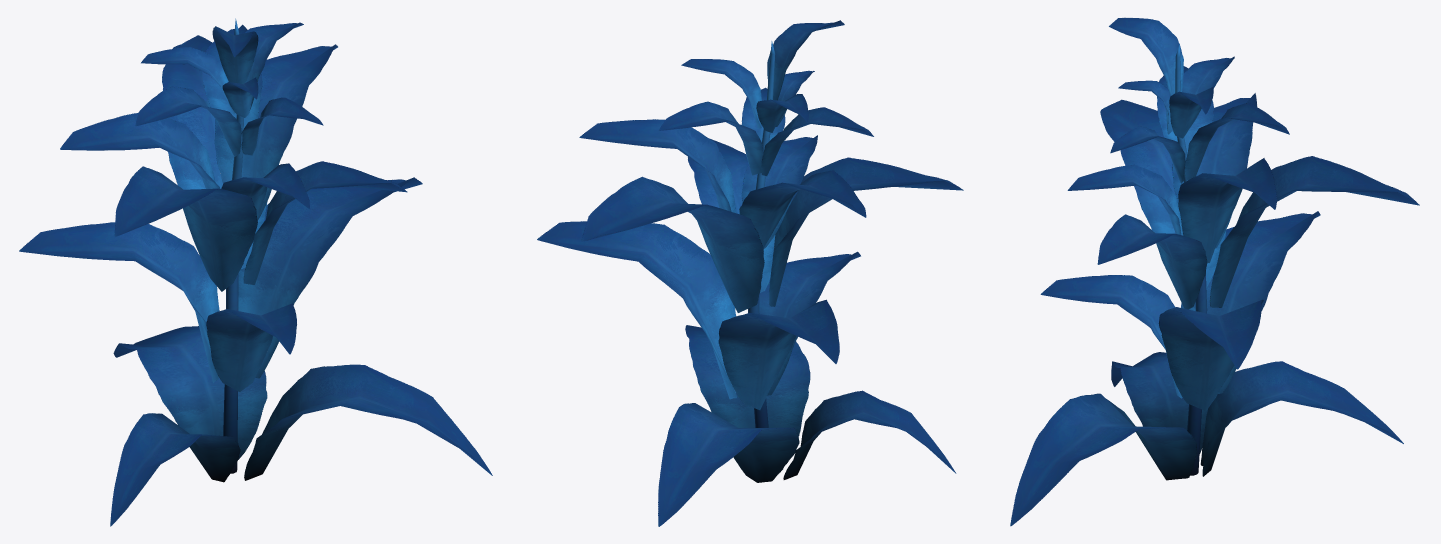
The model's file is Plant_2.gltf.
3 renders of one model, left to right at view 1: azimuth 30°, elevation 25°; view 2: azimuth 150°, elevation 25°; view 3: azimuth 270°, elevation 25°, orthographic. The views are drawn at different scales.
Parts seen in each view (by area): view 1: Plant_2; view 2: Plant_2; view 3: Plant_2.
Boxes of the visible parts, left/top/right/bottom form: Plant_2: left=19, top=18, right=492, bottom=526; Plant_2: left=537, top=20, right=963, bottom=526; Plant_2: left=1010, top=17, right=1419, bottom=526.
Bounding box in the file's own units: 1.37 × 1.56 × 1.38.
Materials: 1 (1 with a texture image).
